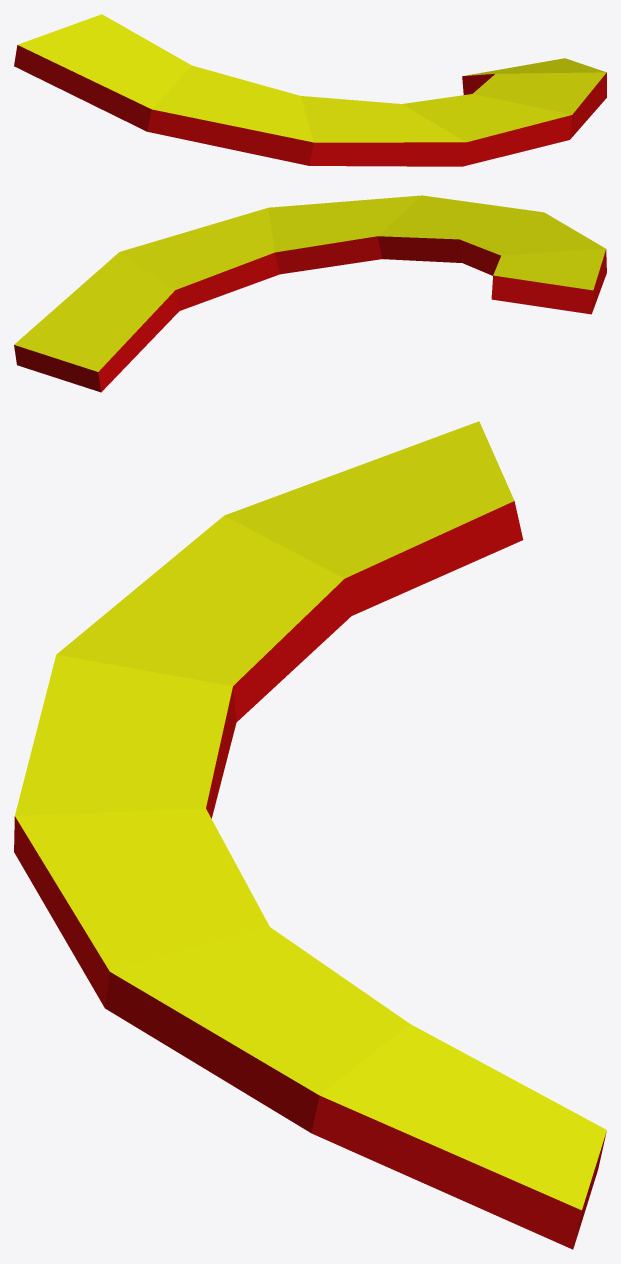
Rendered from SM_WaterShape_Turn.fbx.
The picture shows the model from 3 angles, top to bottom: view 1: azimuth 30°, elevation 25°; view 2: azimuth 150°, elevation 25°; view 3: azimuth 270°, elevation 25°; orthographic projection. The views are drawn at different scales.
Parts seen in each view (by area): view 1: Cube.006; view 2: Cube.006; view 3: Cube.006.
Boxes of the visible parts, x1,y1,x2,y2 form: Cube.006: [14, 14, 606, 166]; Cube.006: [14, 195, 606, 392]; Cube.006: [14, 421, 606, 1249].
Bounding box in the file's own units: 1090 × 359 × 561.
